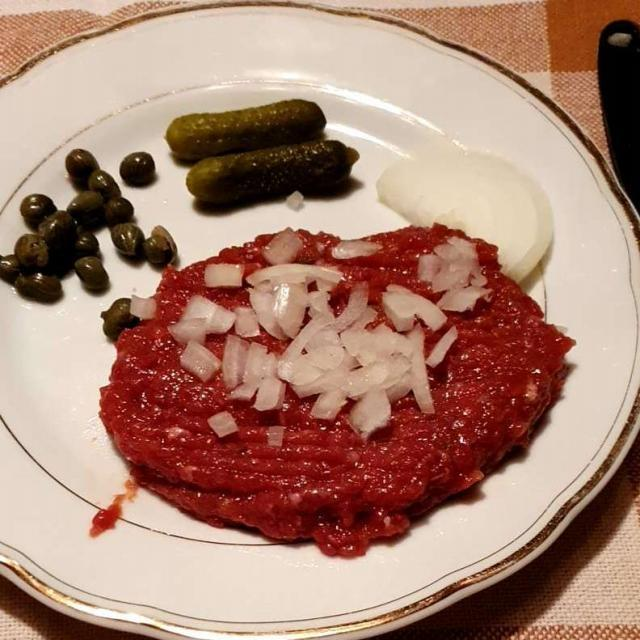beef: (94, 222, 551, 531)
capers: (2, 136, 183, 301)
cucumber-pickled: (169, 99, 358, 211)
onion: (175, 157, 548, 445)
